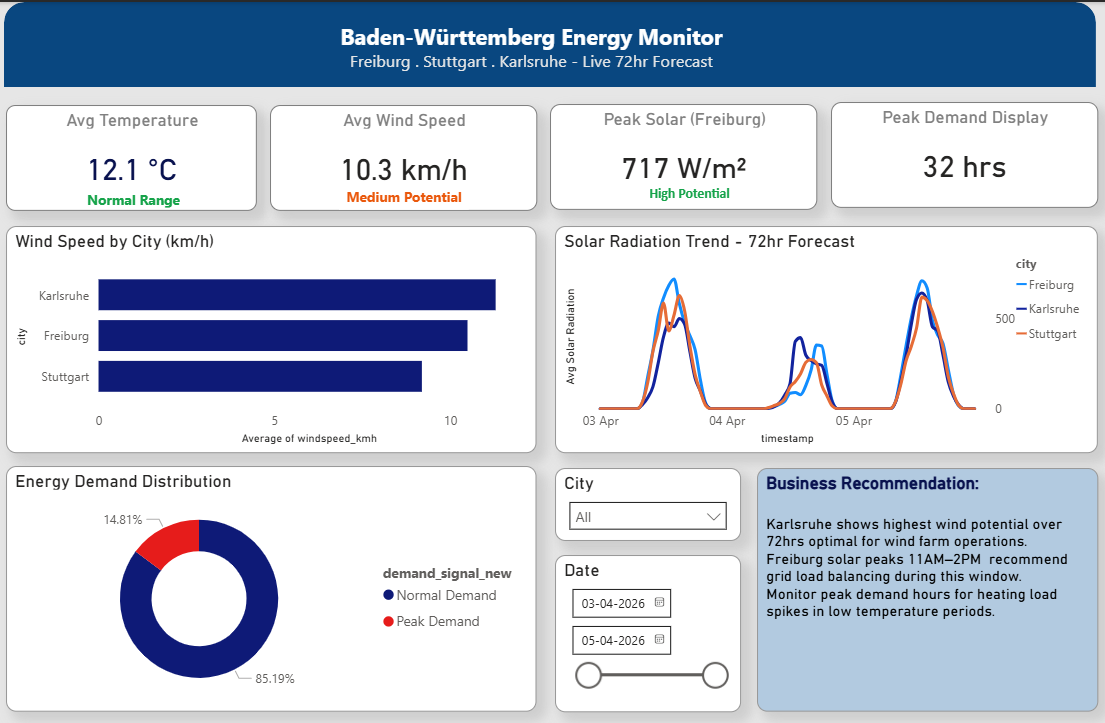

The dashboard page shown, as its layout file describes it:
{"tool":"powerbi","page":{"name":"Page 1","canvas":[1280,720],"ordinal":0},"visuals":[{"type":"card","title":"Avg Temperature","fields":{"Values":["energy_latest.Avg_Temperature_Display"]},"box":[19.5,100.2,244.1,103.1],"z":0},{"type":"card","title":"Avg Wind Speed","fields":{"Values":["energy_latest.Avg_Wind_Speed_Display"]},"box":[276.2,100.2,259.7,103.1],"z":1000},{"type":"textbox","box":[86.6,178,113.8,27.2],"z":2000},{"type":"textbox","box":[343.3,175,126.4,27.2],"z":3000},{"type":"card","title":"Peak Solar (Freiburg)","fields":{"Values":["energy_latest.Peak Solar Freiburg"]},"box":[548.6,99.2,259.7,103.1],"z":4000},{"type":"textbox","box":[627.4,171.2,113.8,29.2],"z":5000},{"type":"card","title":"Peak Demand Display","fields":{"Values":["energy_latest.Peak Demand Display"]},"box":[821.9,97.3,259.7,103.1],"z":6000},{"type":"clusteredBarChart","title":"Wind Speed by City (km/h)","fields":{"Category":["energy_latest.city"],"Y":["Avg(energy_latest.windspeed_kmh)"]},"box":[19.5,217.9,516.5,220.8],"z":7000},{"type":"lineChart","title":"Solar Radiation Trend - 72hr Forecast","fields":{"Category":["energy_latest.timestamp"],"Y2":["Avg(energy_latest.solar_radiation_wm2)"],"Series":["energy_latest.city"]},"box":[553.4,217.9,528.1,220.8],"z":8000},{"type":"donutChart","title":"Energy Demand Distribution","fields":{"Category":["energy_latest.demand_signal_new"],"Y":["CountNonNull(energy_latest.city)"]},"box":[19.5,451.3,516.5,239.3],"z":8001},{"type":"slicer","title":"City","fields":{"Values":["energy_latest.city"]},"box":[553.4,453.3,180.9,71],"z":8002},{"type":"slicer","title":"Date","fields":{"Values":["energy_latest.date"]},"box":[553.4,537.9,180.9,152.7],"z":8003},{"type":"textbox","title":"Business Recommendation:","box":[749.9,453.3,331.7,237.3],"z":8004},{"type":"shape","box":[17.5,0,1062.1,82.7],"z":8005},{"type":"textbox","box":[252.9,13.6,555.4,69.1],"z":8006}]}

Visuals, with their boxes on the page's 1280x720 design canvas (x1, y1, x2, y2). These are canvas units, not pixel positions in the 1105x723 screenshot, which may show the page scaled, cropped or inside an application window:
"Avg Temperature" card: (20, 100, 264, 203)
"Avg Wind Speed" card: (276, 100, 536, 203)
textbox: (87, 178, 200, 205)
textbox: (343, 175, 470, 202)
"Peak Solar (Freiburg)" card: (549, 99, 808, 202)
textbox: (627, 171, 741, 200)
"Peak Demand Display" card: (822, 97, 1082, 200)
"Wind Speed by City (km/h)" clusteredBarChart: (20, 218, 536, 439)
"Solar Radiation Trend - 72hr Forecast" lineChart: (553, 218, 1082, 439)
"Energy Demand Distribution" donutChart: (20, 451, 536, 691)
"City" slicer: (553, 453, 734, 524)
"Date" slicer: (553, 538, 734, 691)
"Business Recommendation:" textbox: (750, 453, 1082, 691)
shape: (18, 0, 1080, 83)
textbox: (253, 14, 808, 83)
